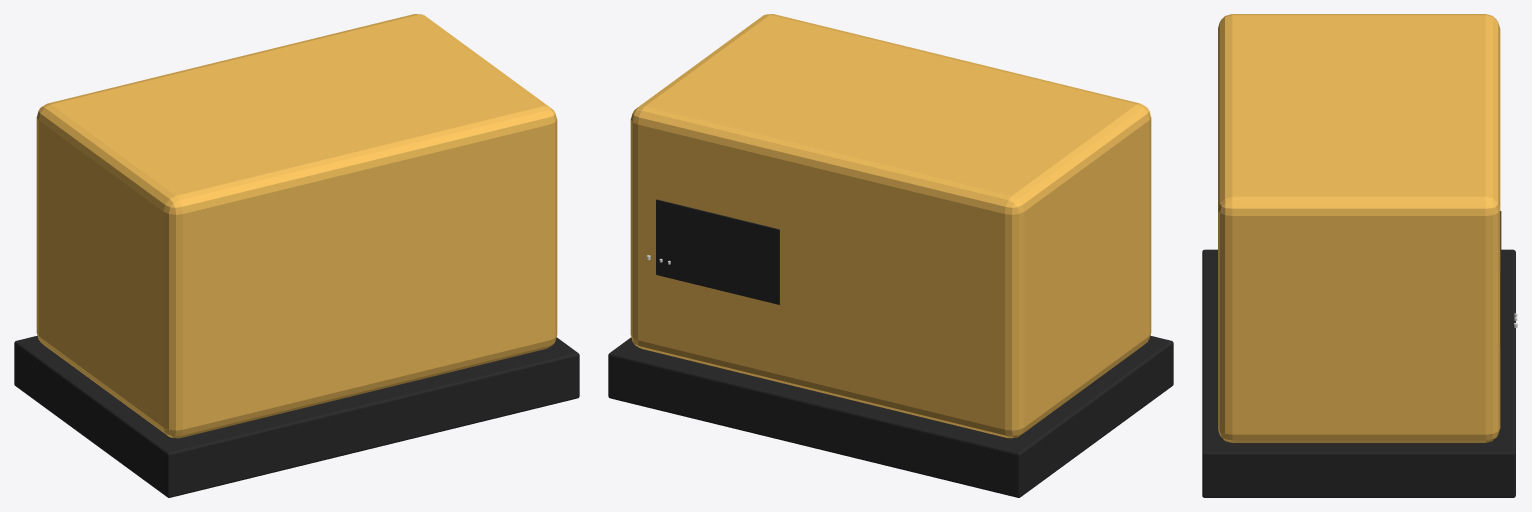
File: generic-generator-10k-230v-50hz.glb
3 views of the same model, side by side, from view 1: azimuth 30°, elevation 25°; view 2: azimuth 150°, elevation 25°; view 3: azimuth 270°, elevation 25° (orthographic).
Visible parts, largest first — view 1: housing, frame; view 2: housing, frame, panel; view 3: housing, frame.
Boxes of the visible parts, bbox=[...] form: housing: bbox=[36, 14, 557, 438]; frame: bbox=[14, 335, 579, 497]; housing: bbox=[630, 14, 1151, 438]; frame: bbox=[608, 335, 1173, 497]; panel: bbox=[656, 199, 779, 304]; housing: bbox=[1218, 14, 1500, 442]; frame: bbox=[1202, 249, 1515, 497].
Size of the model in its own units: 1 by 0.665 by 0.654.
